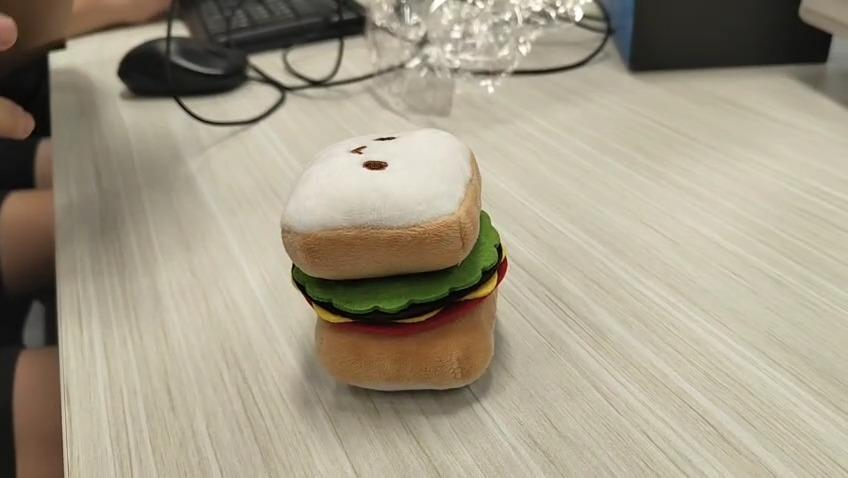objects: (280, 128, 512, 393)
